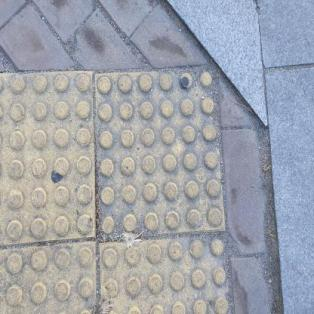Podoctatil: (0, 66, 237, 313)
